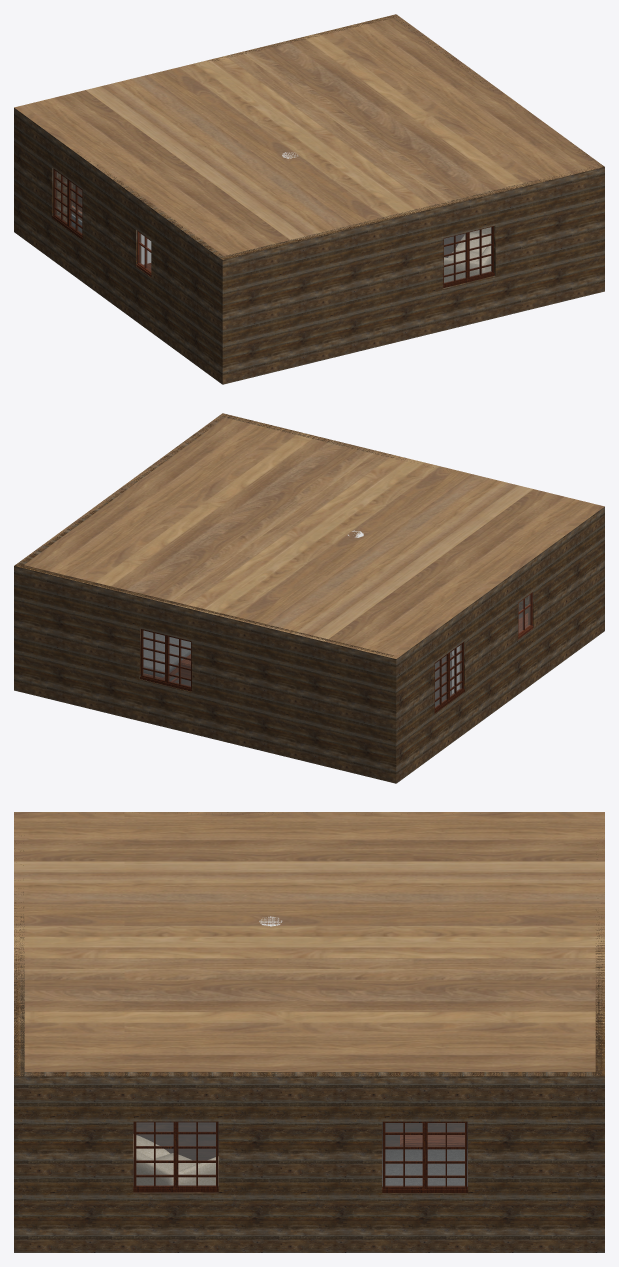
File: cabin.gltf
The picture shows the model from 3 angles, top to bottom: view 1: azimuth 30°, elevation 25°; view 2: azimuth 150°, elevation 25°; view 3: azimuth 270°, elevation 25°; orthographic projection. The views are drawn at different scales.
Parts seen in each view (by area): view 1: Plane, Walls, Large Window Glass, Large Window, Couch_Medium1, Large Window.004, Large Window Glass.004; view 2: Plane, Walls, Large Window Glass.003, Large Window.003, Bed_King, Large Window.004, Large Window Glass.004, Floor; view 3: Plane, Walls, Large Window Glass.001, Large Window Glass.002, Floor, Large Window.001, Large Window.002, Bed_King, Couch_Medium1, Drawer_1.
Boxes of the visible parts, x1,y1,x2,y2 form: Plane: [14, 14, 603, 259]; Walls: [14, 14, 604, 384]; Large Window Glass: [444, 227, 491, 282]; Large Window: [443, 226, 494, 287]; Couch_Medium1: [444, 227, 490, 282]; Large Window.004: [52, 168, 82, 239]; Large Window Glass.004: [55, 171, 81, 233]; Plane: [16, 413, 604, 658]; Walls: [14, 413, 604, 783]; Large Window Glass.003: [143, 630, 190, 686]; Large Window.003: [140, 629, 191, 691]; Bed_King: [143, 630, 190, 681]; Large Window.004: [434, 642, 464, 713]; Large Window Glass.004: [435, 644, 461, 707]; Floor: [169, 614, 522, 706]; Plane: [14, 812, 604, 1076]; Walls: [14, 812, 604, 1252]; Large Window Glass.001: [136, 1122, 215, 1185]; Large Window Glass.002: [385, 1123, 464, 1186]; Floor: [133, 1121, 467, 1163]; Large Window.001: [133, 1121, 218, 1192]; Large Window.002: [382, 1121, 467, 1192]; Bed_King: [382, 1149, 467, 1186]; Couch_Medium1: [133, 1134, 218, 1185]; Drawer_1: [400, 1135, 464, 1146].
Size of the model in its own units: 13.39 by 5.17 by 12.65.
Materials: 23 (19 with a texture image).
